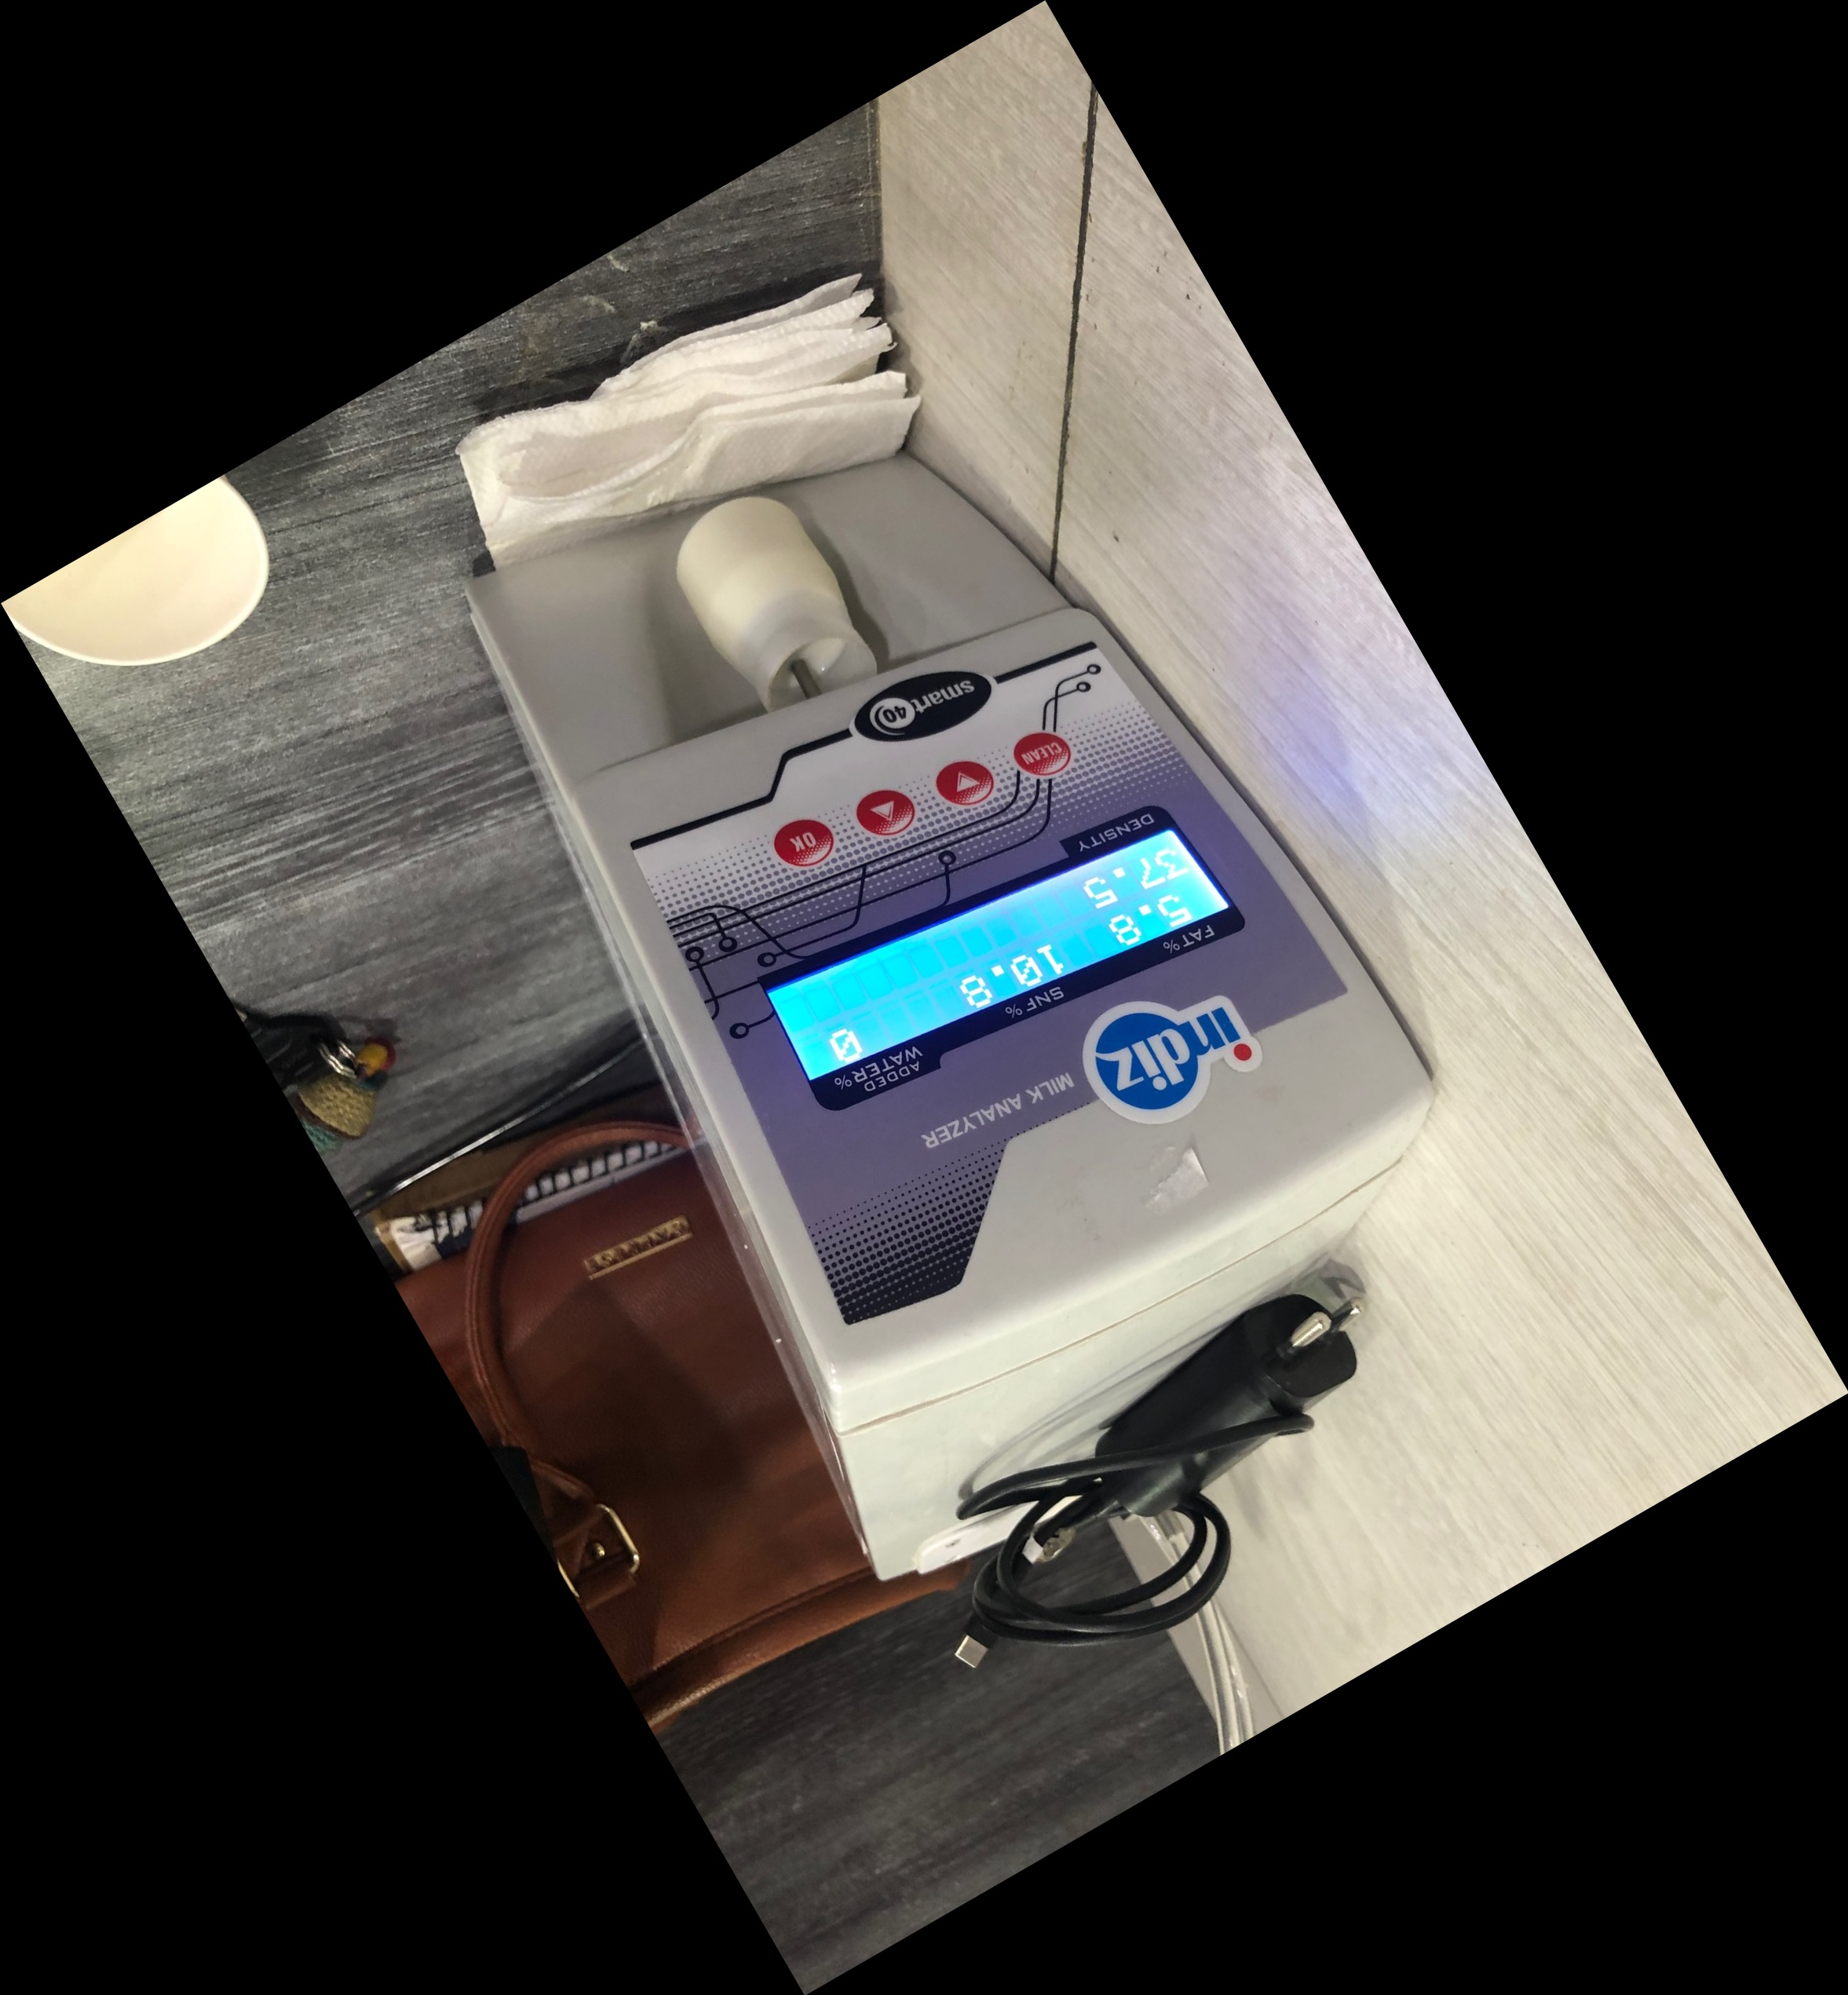lcd: (738, 777, 1263, 1149)
